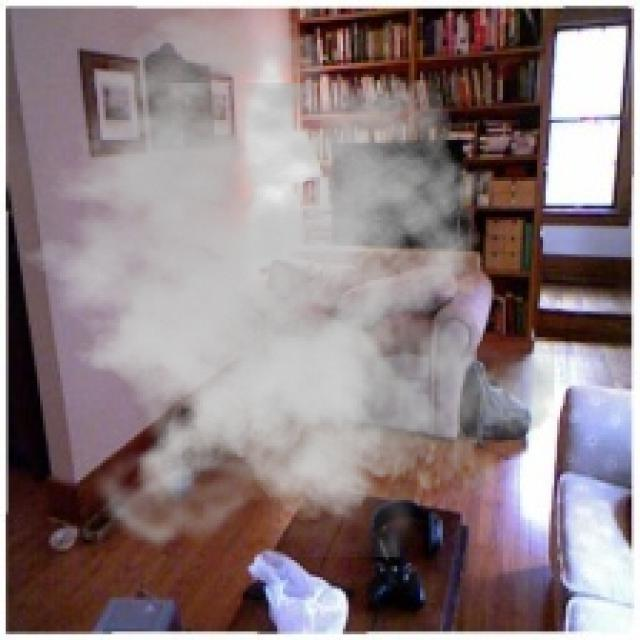smoke: (0, 5, 555, 558)
